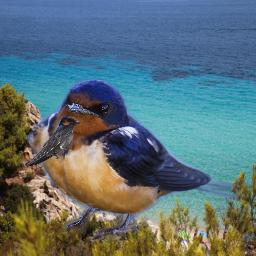Swallow: (26, 77, 239, 240), (24, 116, 81, 166)
